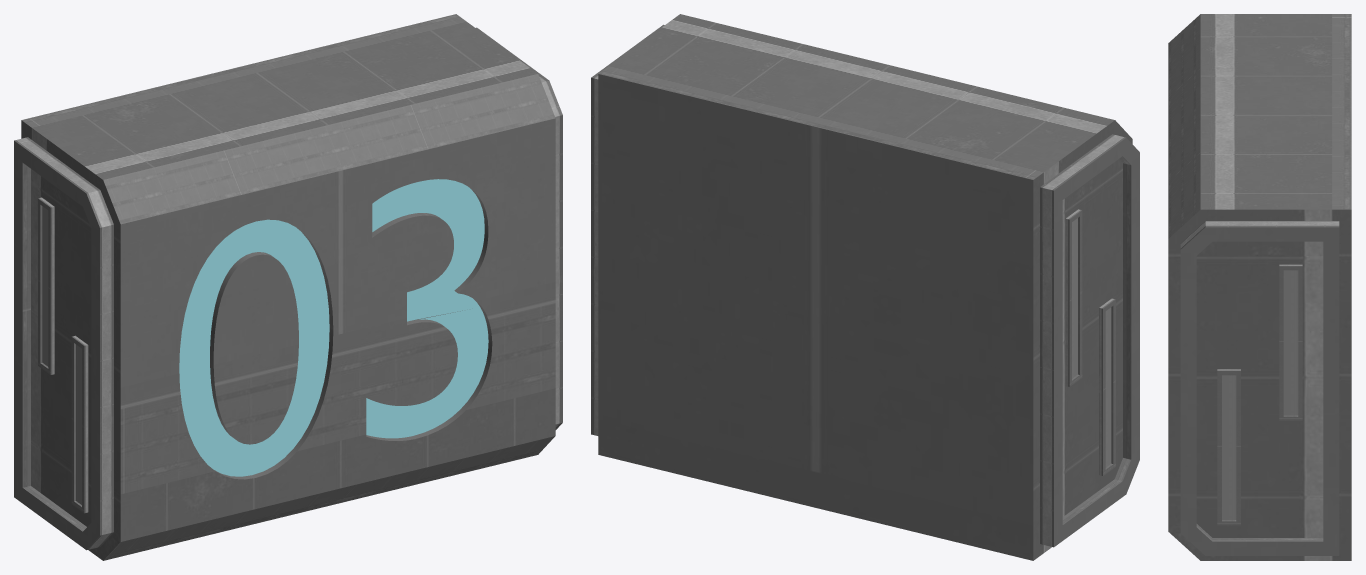
Rendered from SM_sign_number.glb.
3 renders of one model, left to right at view 1: azimuth 30°, elevation 25°; view 2: azimuth 150°, elevation 25°; view 3: azimuth 270°, elevation 25°, orthographic. The views are drawn at different scales.
Parts seen in each view (by area): view 1: SM_sign_number; view 2: SM_sign_number; view 3: SM_sign_number.
Part boxes in pixels (x1=…): SM_sign_number: x1=14, y1=14, x2=562, y2=560; SM_sign_number: x1=591, y1=14, x2=1139, y2=560; SM_sign_number: x1=1168, y1=14, x2=1351, y2=560.
Bounding box in the file's own units: 13.55 × 10.66 × 5.04.
Materials: 2 (1 with a texture image).
